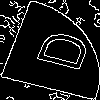D: (24, 25, 92, 73)
